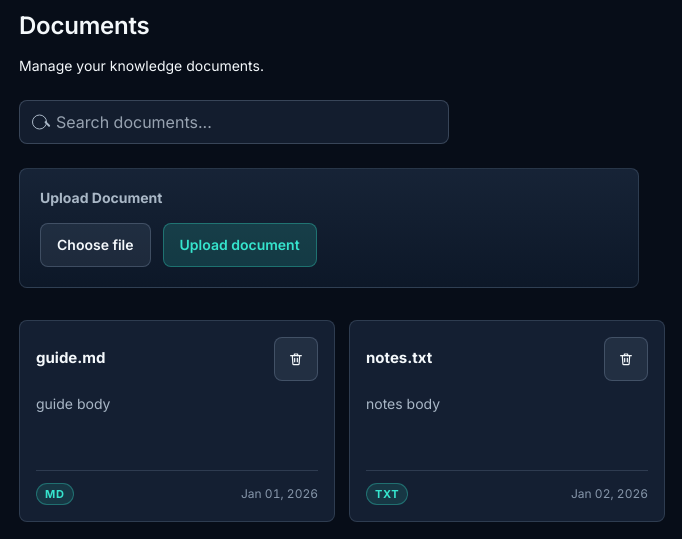
Test: DocumentsPage › searches and shows only the matching documents
This screenshot has width=682, height=539.
Expected: the heading "guide.md" is shown, [36,348,105,367]
Type "g" into the field with placeholder "Search documents..." at (234, 122), box [19,100,449,144]
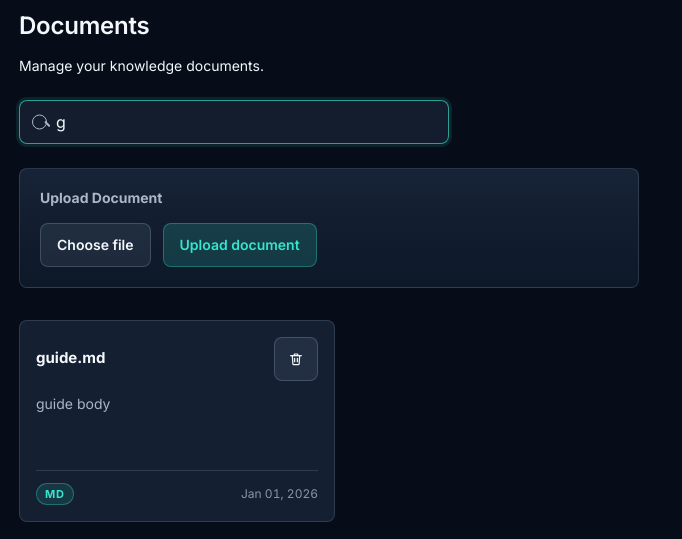
Expected: the heading "guide.md" is shown, [36,348,105,367]
Now the heading "notes.txt" is gone
